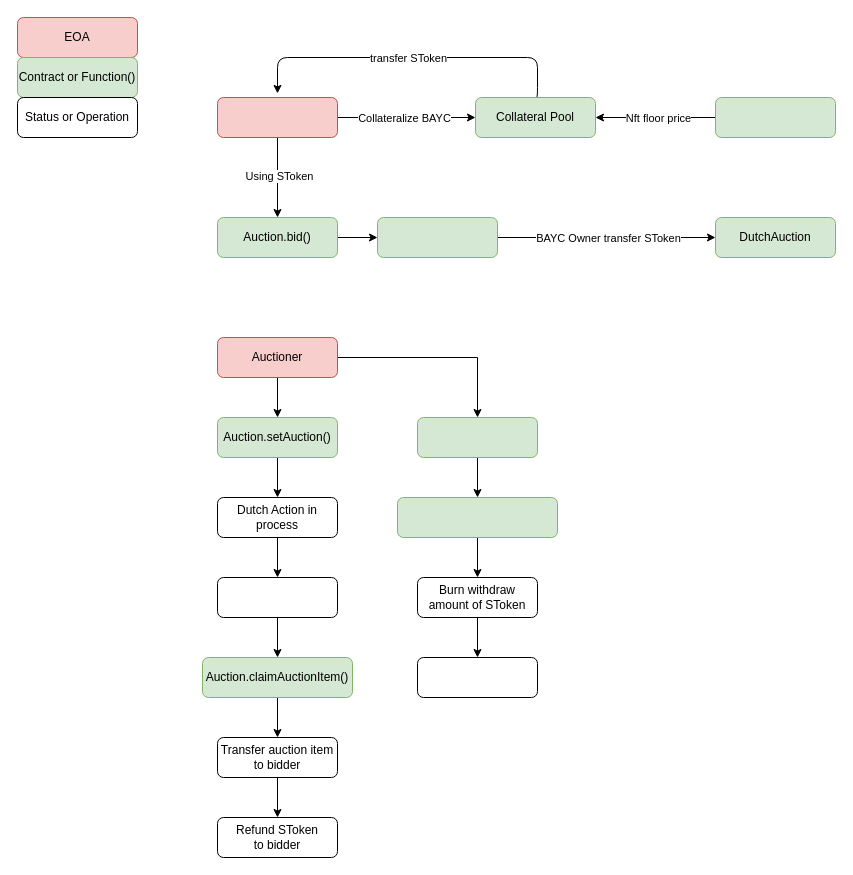
This 853x875 diagram has some shape labels left out. The box of each missing label's shape, as (x1, y1, x2, y2) in pixels:
Auction._bidAllowed(): (376, 216, 498, 258)
Auction.withdraw(): (416, 416, 538, 458)
BAYC Owner: (216, 96, 338, 138)
Block.timestemp > Action.endTime: (216, 576, 338, 618)
Chainlink Nft price feed: (714, 96, 836, 138)
CollateralPool. swapExactTokensForETH(): (396, 496, 558, 538)
Transfer withdraw amount of ETH: (416, 656, 538, 698)
